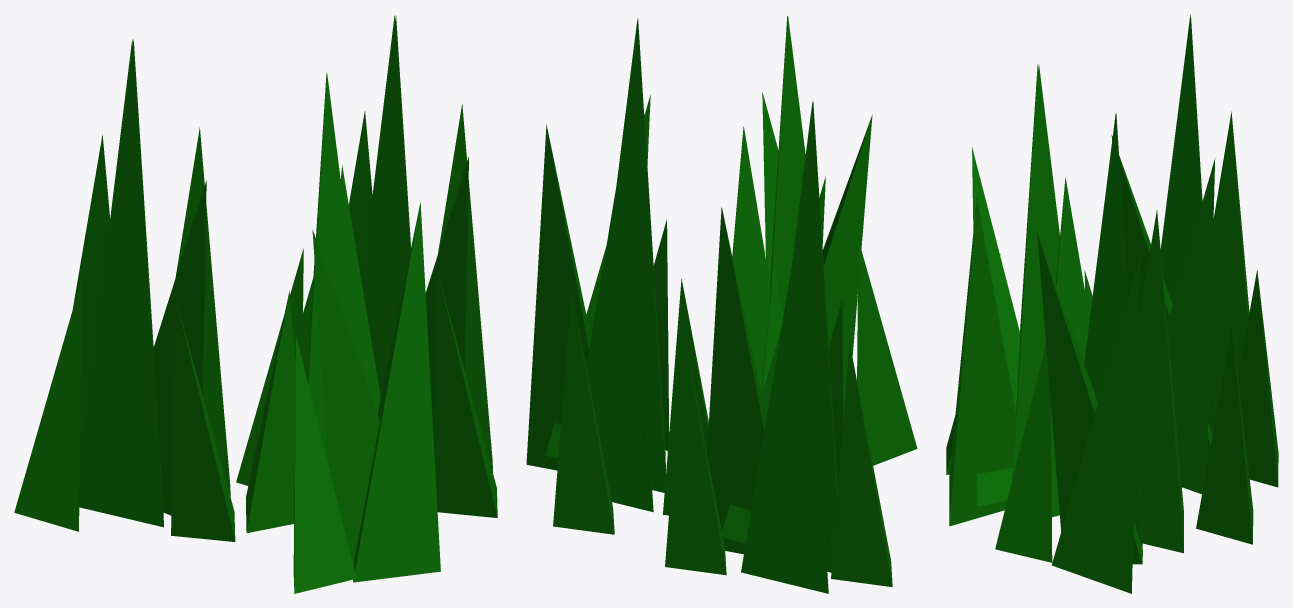
File: Grass.fbx
3 views of the same model, side by side, from view 1: azimuth 30°, elevation 25°; view 2: azimuth 150°, elevation 25°; view 3: azimuth 270°, elevation 25° (orthographic). The views are drawn at different scales.
Parts seen in each view (by area): view 1: Cone; view 2: Cone; view 3: Cone.
Boxes of the visible parts, x1=… form: Cone: x1=14, y1=15, x2=497, y2=593; Cone: x1=526, y1=16, x2=917, y2=593; Cone: x1=946, y1=14, x2=1278, y2=593.
Bounding box in the file's own units: 482 × 515 × 357.
